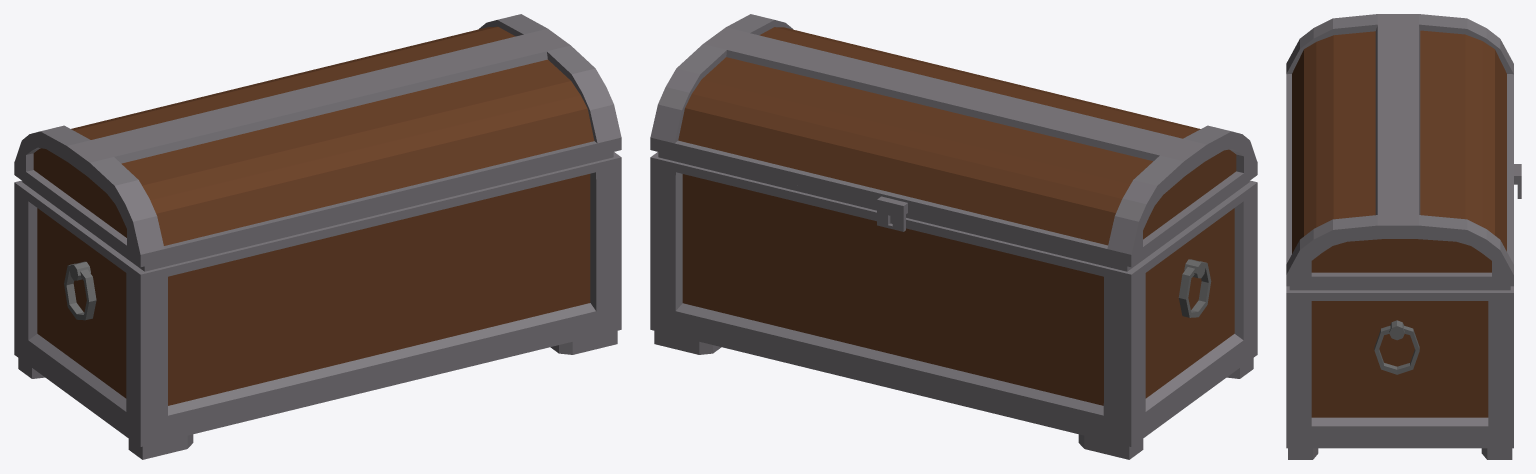
Rendered from Chest.obj.
3 renders of one model, left to right at view 1: azimuth 30°, elevation 25°; view 2: azimuth 150°, elevation 25°; view 3: azimuth 270°, elevation 25°, orthographic. The views are drawn at different scales.
Parts seen in each view (by area): view 1: Cube_Cube.001; view 2: Cube_Cube.001; view 3: Cube_Cube.001.
Boxes of the visible parts, box(x1,y1,x2,y2) form: Cube_Cube.001: box(14, 14, 621, 459); Cube_Cube.001: box(650, 14, 1257, 459); Cube_Cube.001: box(1286, 14, 1521, 459).
Size of the model in its own units: 1.33 by 0.6761 by 0.612.
Materials: 1 (1 with a texture image).
